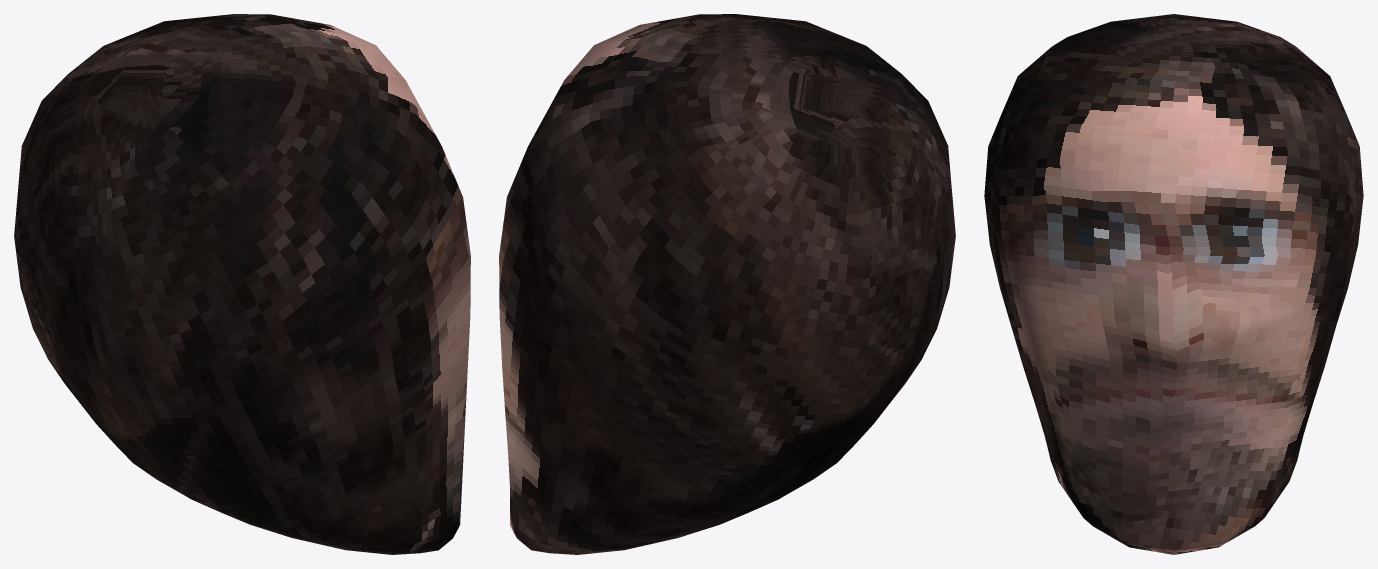
3 views of the same model, side by side, from view 1: azimuth 30°, elevation 25°; view 2: azimuth 150°, elevation 25°; view 3: azimuth 270°, elevation 25° (orthographic). The views are drawn at different scales.
Parts seen in each view (by area): view 1: Cube; view 2: Cube; view 3: Cube.
Part boxes in pixels (box(x1,y1,x2,y2)): Cube: box(14, 14, 470, 554); Cube: box(499, 14, 955, 554); Cube: box(984, 14, 1363, 554).
Bounding box in the file's own units: 3.77 × 4.61 × 3.6.
1 material, 1 textured.
